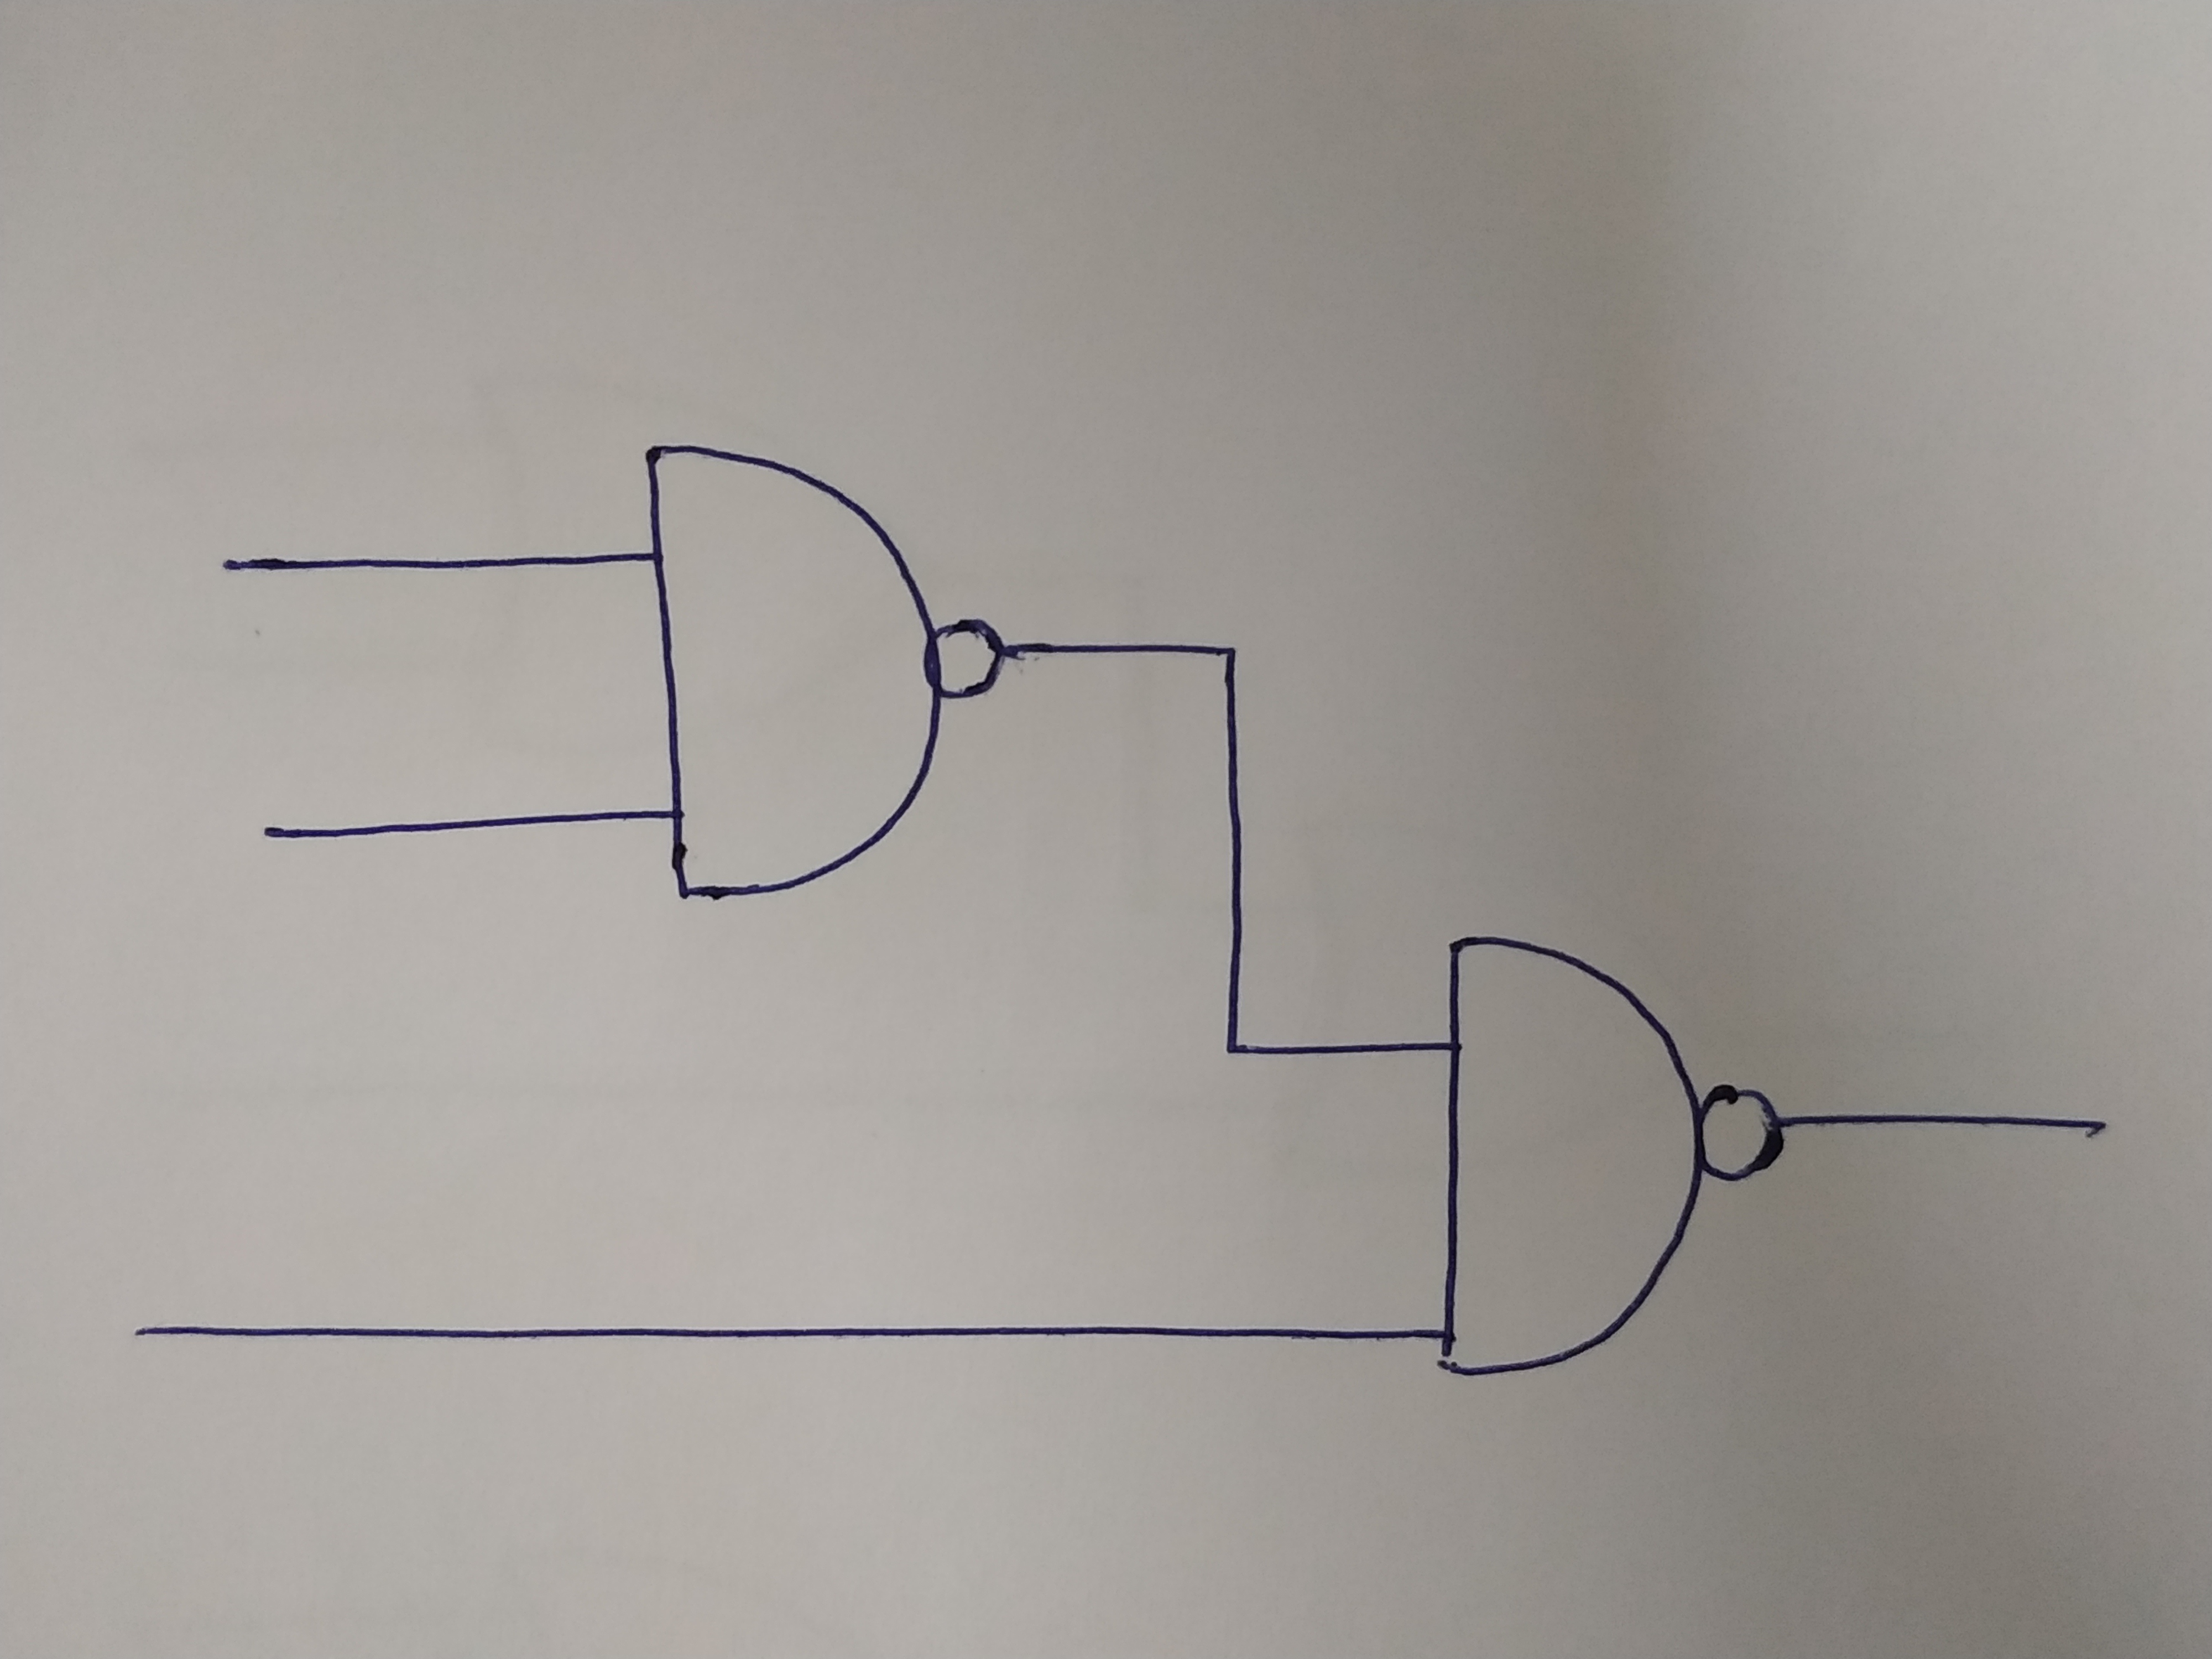and: (646, 444, 941, 899), (1444, 931, 1707, 1380)
not: (1696, 1079, 1782, 1182), (939, 612, 1000, 706)
